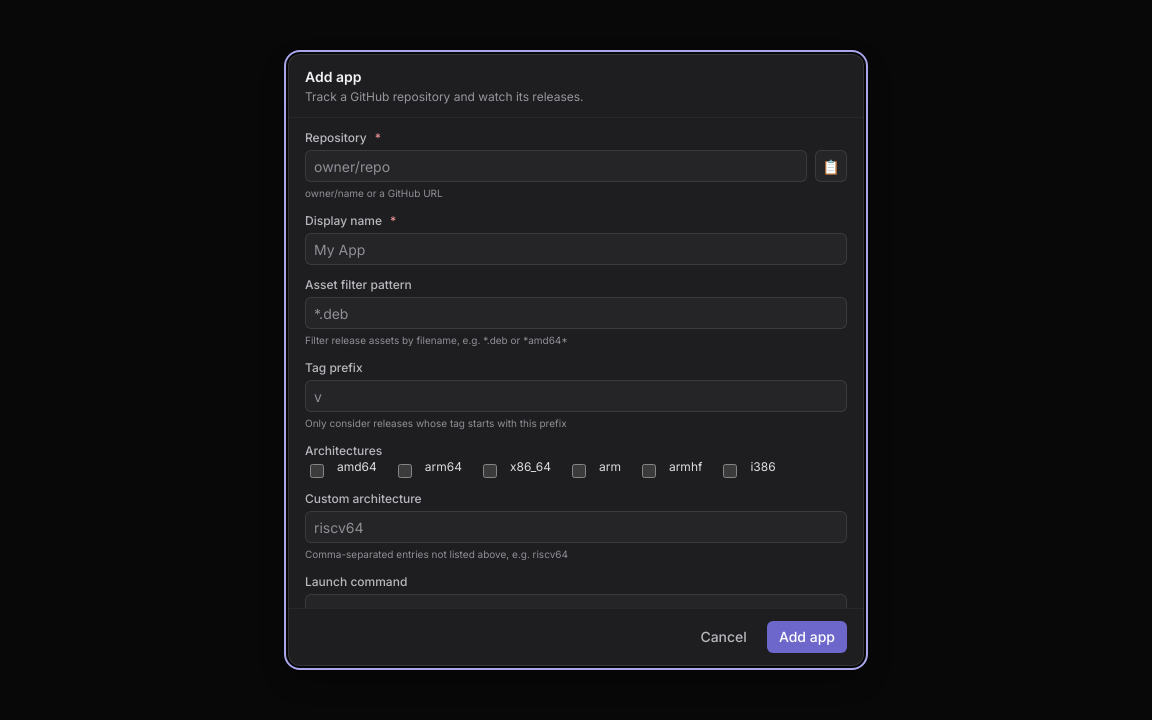
AddAppDialog › warns when the clipboard read fails
Click the button named "Paste from clipboard".
click(831, 166)  # box left=815, top=150, right=847, bottom=182
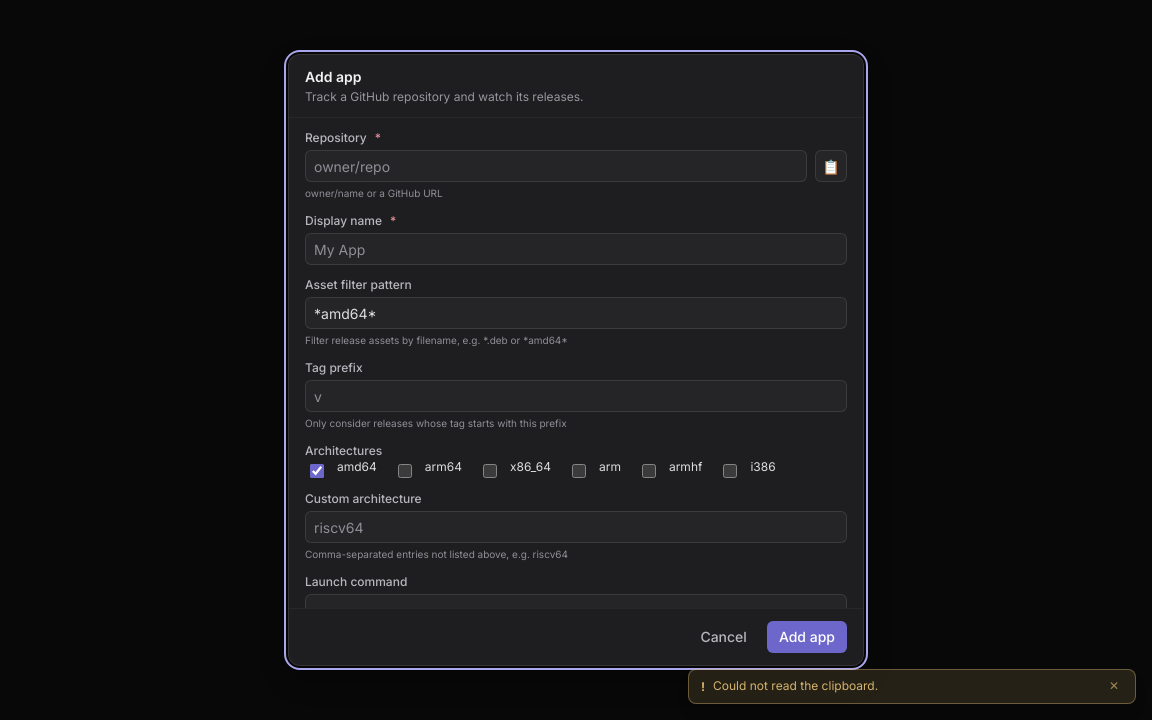
expect the text "Could not read the clipboard." is shown: met, box left=713, top=678, right=878, bottom=693
